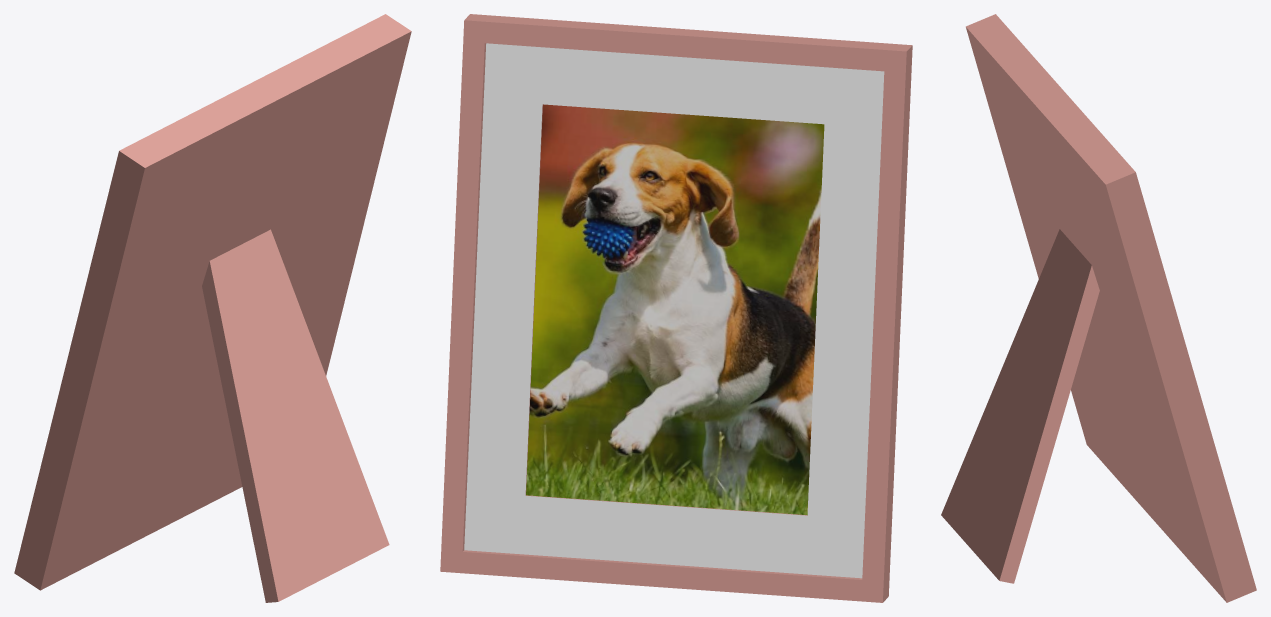
Rendered from quadro_mensola.fbx.
3 renders of one model, left to right at view 1: azimuth 30°, elevation 25°; view 2: azimuth 150°, elevation 25°; view 3: azimuth 270°, elevation 25°, orthographic. The views are drawn at different scales.
Visible parts, largest first — view 1: quadro_mensola; view 2: quadro_mensola; view 3: quadro_mensola.
Part boxes in pixels (left/top/right/bottom): quadro_mensola: left=14, top=14, right=411, bottom=602; quadro_mensola: left=440, top=14, right=912, bottom=602; quadro_mensola: left=941, top=14, right=1256, bottom=602.
Size of the model in its own units: 18.11 by 20.66 by 13.28.
Materials: 1 (1 with a texture image).
